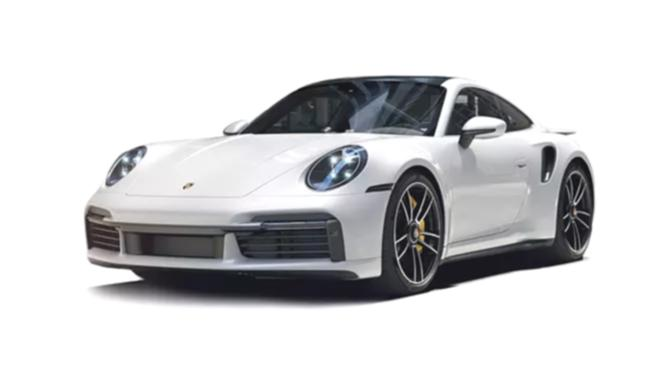porsche: (179, 178, 199, 195)
